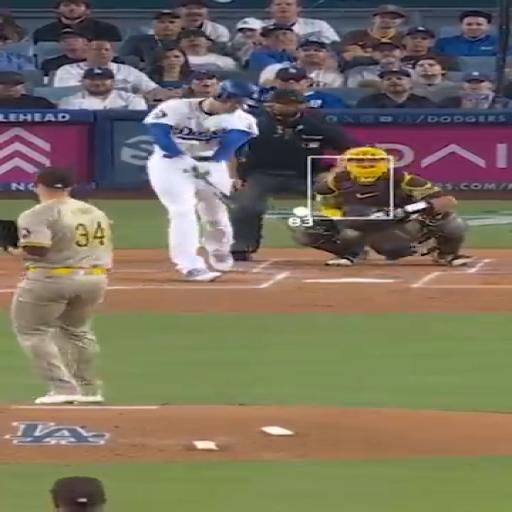bat: (191, 168, 236, 207)
